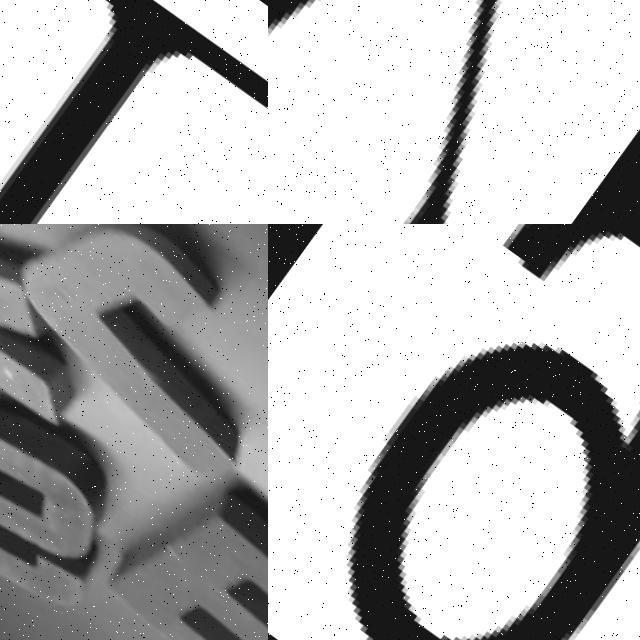9: (268, 224, 640, 640)
E: (0, 0, 268, 224), (78, 441, 268, 640)
S: (0, 376, 154, 631)
V: (268, 0, 640, 224)
